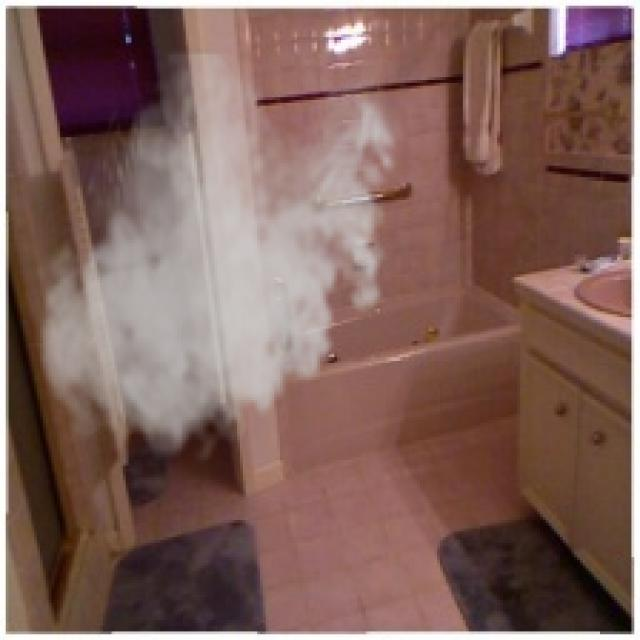smoke: (31, 49, 408, 472)
